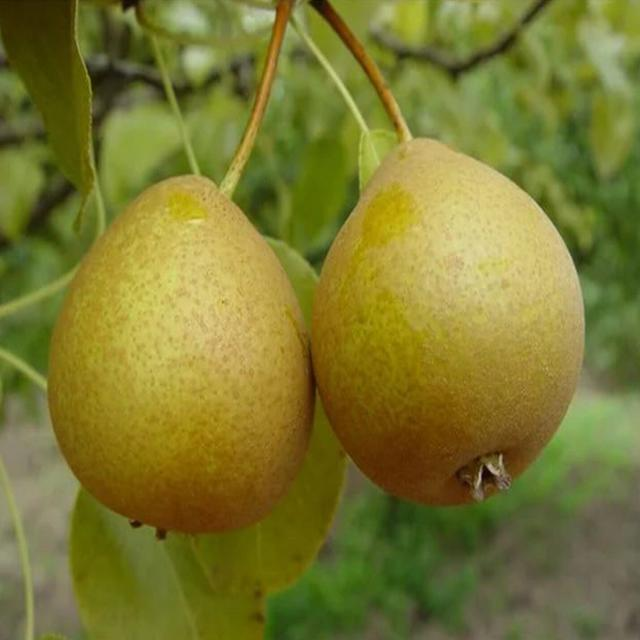pear: (310, 133, 587, 508), (45, 170, 318, 537)
